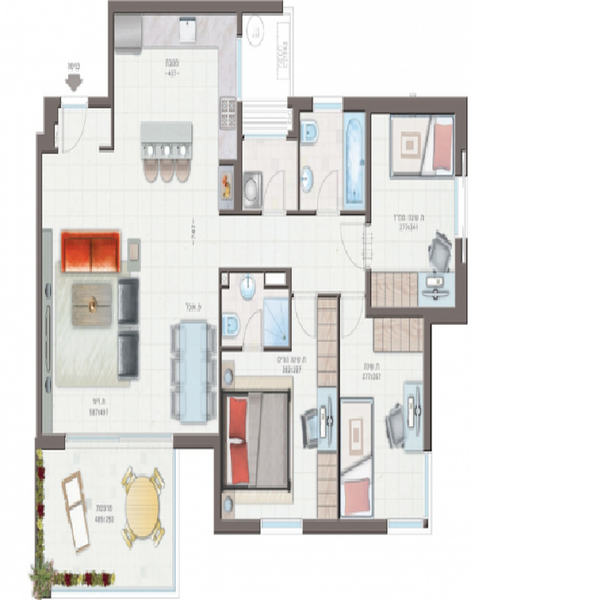door: (58, 98, 91, 161), (338, 214, 372, 270), (337, 292, 373, 344), (316, 171, 348, 211), (235, 312, 268, 350), (266, 173, 291, 214)
room: (37, 225, 228, 449), (217, 261, 340, 532), (110, 4, 242, 214), (366, 89, 470, 324), (334, 325, 437, 537), (287, 94, 377, 221), (230, 94, 305, 216)
wall: (34, 134, 44, 447), (344, 96, 470, 118), (335, 281, 345, 518), (109, 2, 279, 14), (421, 321, 434, 454), (217, 272, 227, 438), (233, 104, 247, 214), (301, 521, 387, 536), (363, 114, 374, 226), (457, 241, 471, 323), (292, 132, 305, 213), (215, 264, 292, 276), (366, 308, 457, 318), (458, 108, 471, 177), (288, 263, 297, 354), (109, 5, 117, 106), (173, 433, 221, 449), (216, 447, 224, 535), (218, 521, 261, 536), (108, 109, 121, 154), (285, 98, 315, 112), (44, 98, 60, 124), (35, 437, 64, 450), (263, 345, 292, 355), (224, 207, 260, 215), (223, 346, 243, 355)
window: (67, 432, 172, 451), (455, 175, 471, 251), (422, 454, 435, 520), (261, 516, 304, 535), (387, 522, 431, 535), (315, 98, 347, 113)
